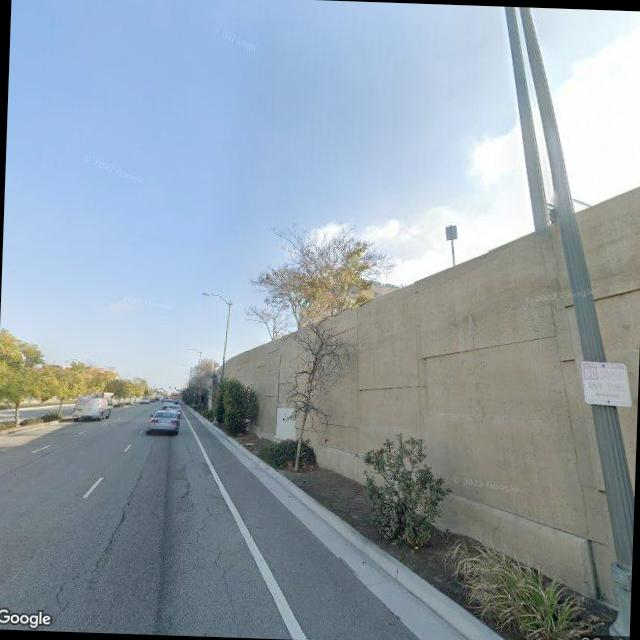pothole: (185, 496, 247, 634)
